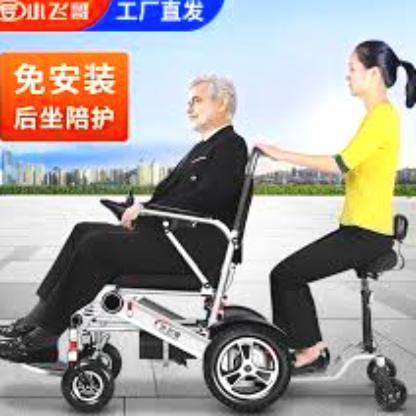person: (241, 39, 413, 380)
wheelchair: (33, 184, 282, 416)
